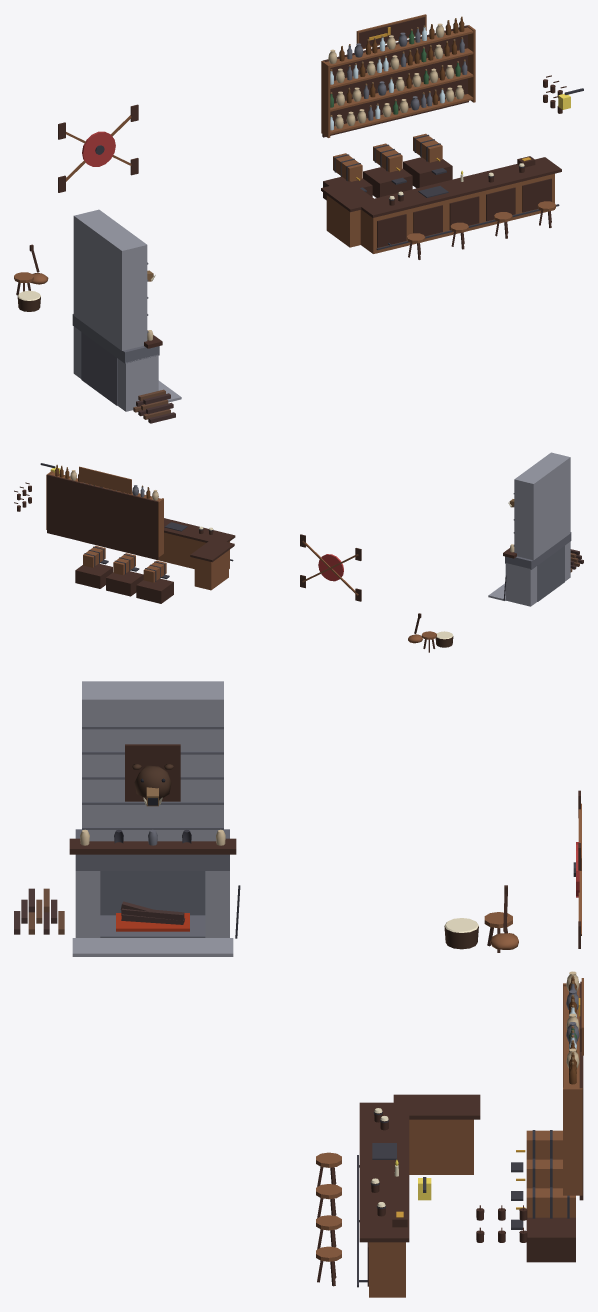
The model's file is inn_fittings.glb.
3 views of the same model, one above another, from view 1: azimuth 30°, elevation 25°; view 2: azimuth 150°, elevation 25°; view 3: azimuth 270°, elevation 25° (orthographic). The views are drawn at different scales.
Parts seen in each view (by area): view 1: cheek; view 2: cheek; view 3: cheek.
Boxes of the visible parts, box(x1,y1,x2,y2) form: cheek: box(14, 14, 583, 423); cheek: box(14, 452, 583, 652); cheek: box(14, 681, 583, 1297).
Size of the model in its own units: 15.95 by 4.2 by 9.23.
